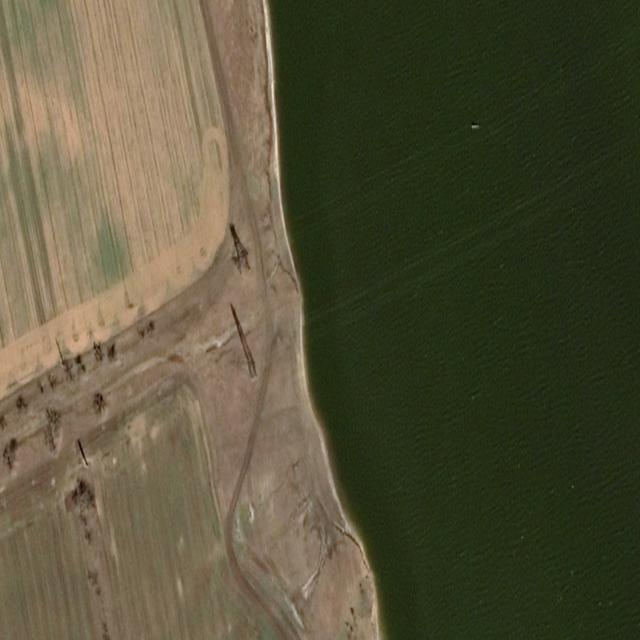building: (231, 302, 260, 385), (229, 219, 253, 280)
water: (267, 0, 640, 639)
